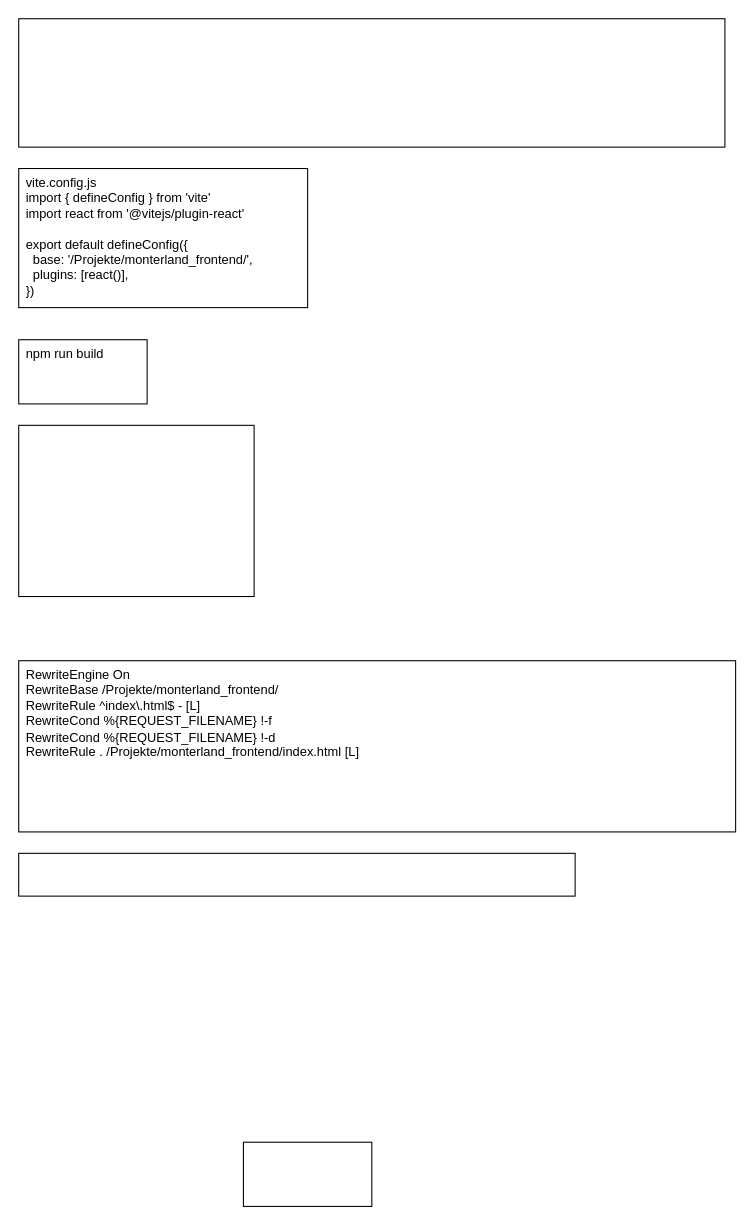
The diagram is 754 pixels wide and 1225 high, and some of its shapes have lost their labels. Each missing label, with the box of its shape:
< li >< a href = "monterland_frontend/" > Monteurland Frontend </ a ></ li >: (18, 852, 575, 896)
monterland_frontend/ │ ├── index.html ├── assets/ └── .htaccess: (18, 424, 254, 597)
